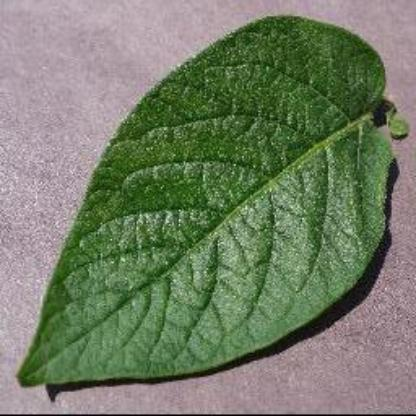Healthy-plant: (26, 13, 402, 387)
